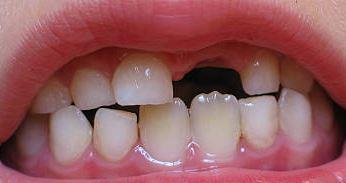Hypodontia: (161, 60, 251, 96)
